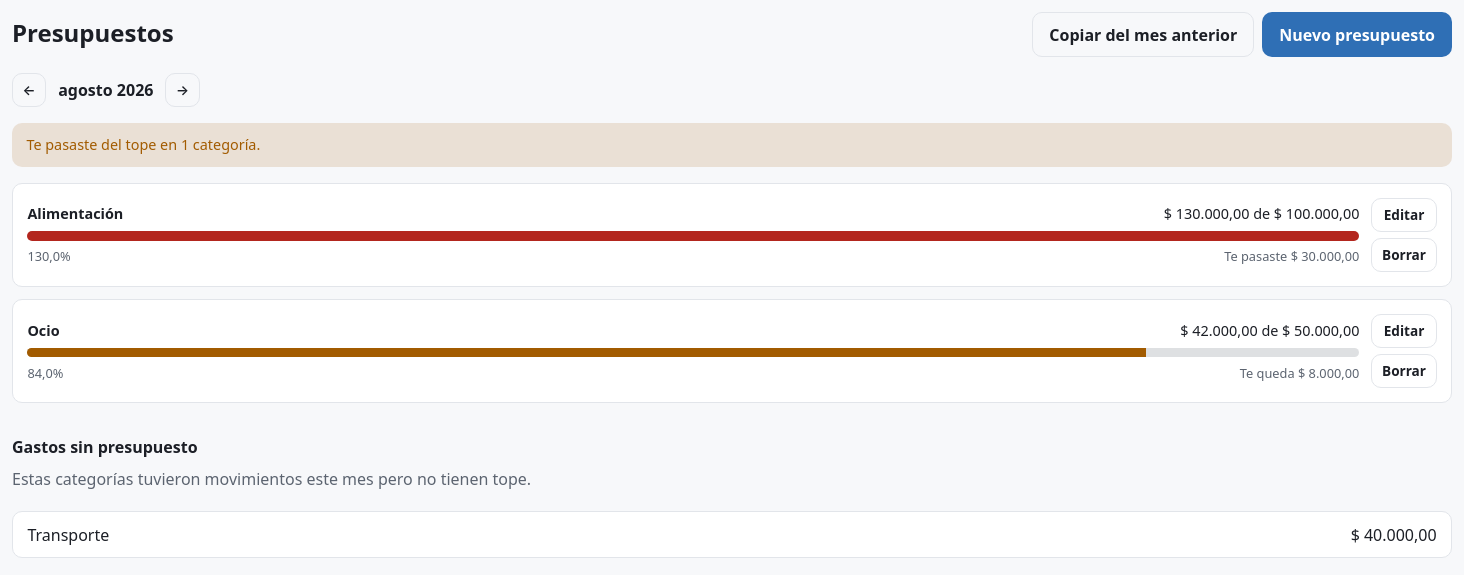
Test case: BudgetsPage › permite cambiar de mes
Note: nombre exacto, porque "Copiar del mes anterior" también lo contiene.
Step 1. Click the button named "Mes anterior" → x=29, y=90, box [12, 73, 46, 107]
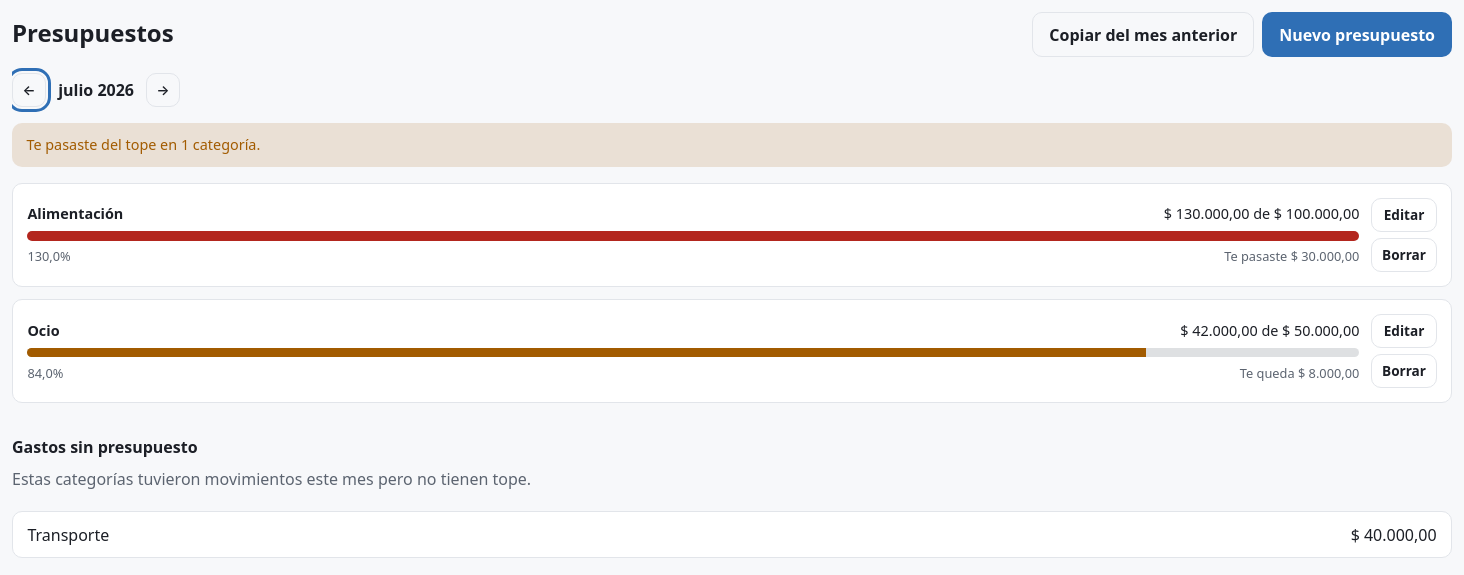
Result: the text "agosto 2026" is gone
